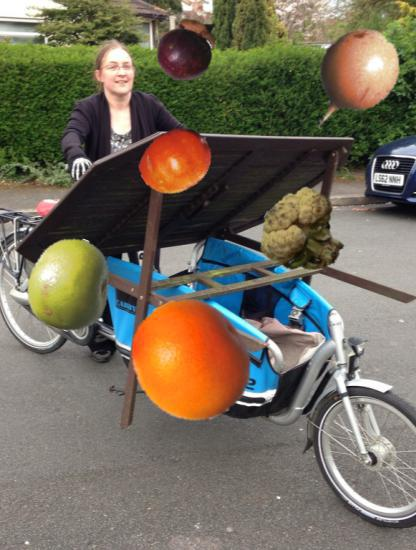Cauliflower: (262, 188, 349, 275)
Clementine: (138, 122, 215, 199)
Granadilla: (292, 22, 409, 139)
Grapefruit: (129, 298, 254, 423)
Mangostan: (152, 13, 223, 84)
Pomelo: (24, 237, 118, 331)
